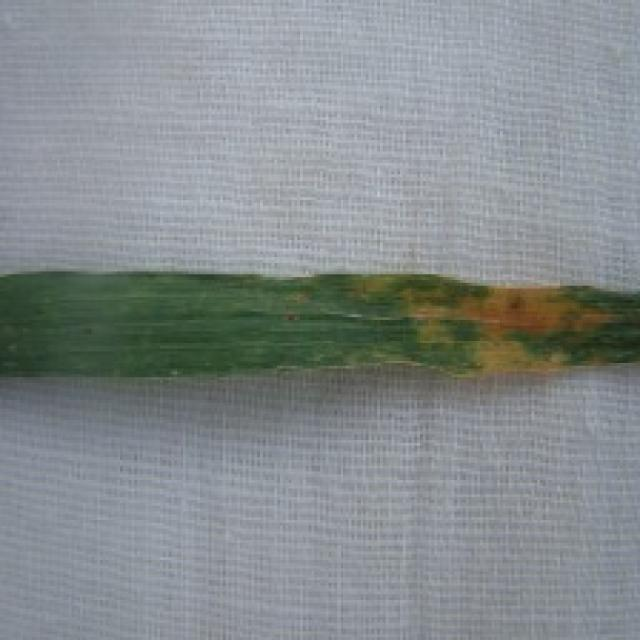Bacterial_Blight: (403, 266, 622, 380)
